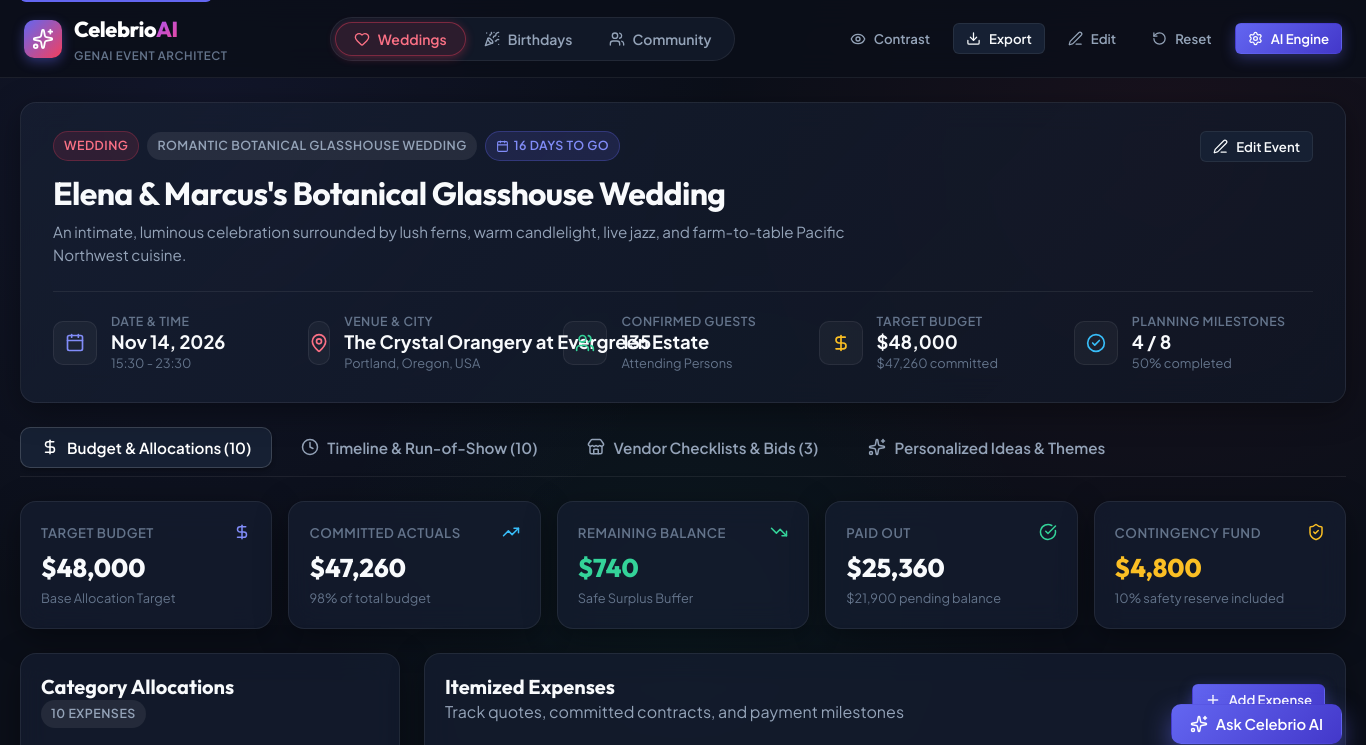
Test: UI Components & Interaction Suite › switches to Birthday persona when Birthday button is clicked
What coordinates should you click on to do the following:
click the button "Birthdays"
I would click on:
 (528, 38)
Its box is [466,22,590,56].
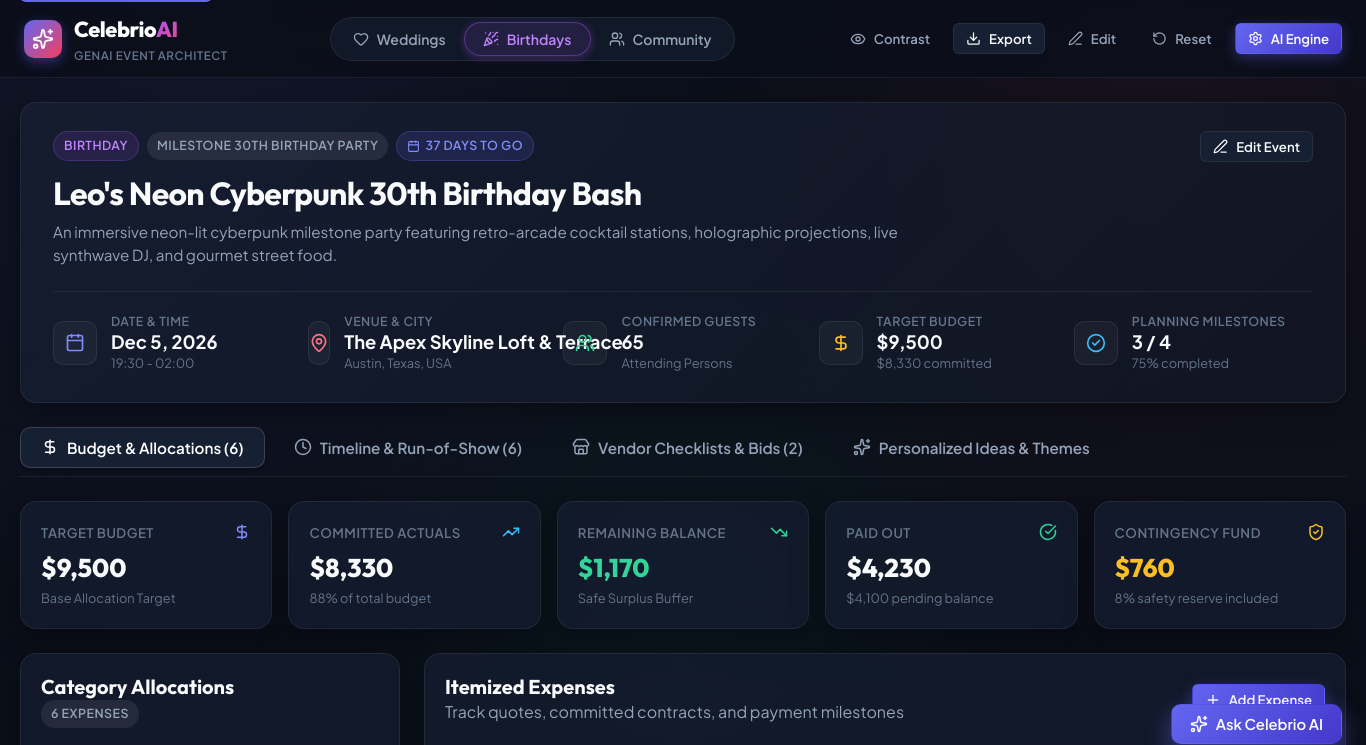
Result: the heading "Leo's Neon Cyberpunk 30th Birthday Bash" is shown at [53,173,641,213]
